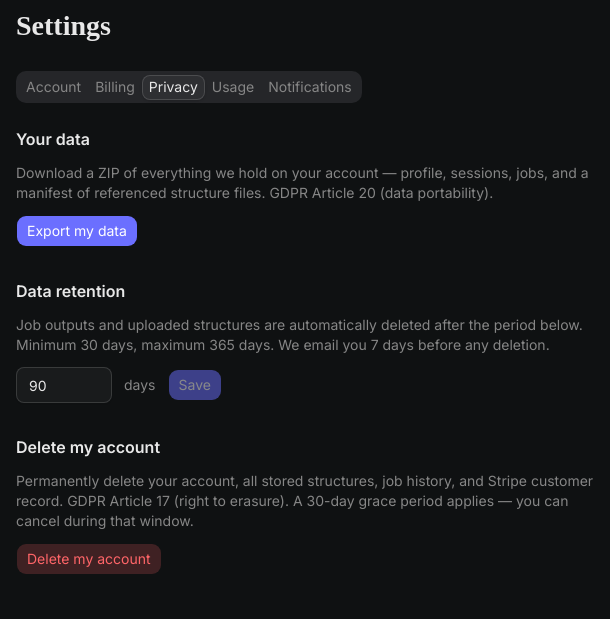
Test case: SettingsPage Privacy tab — Data retention (Plan 10-05) › shows the T-10.05-07 shortening-warning copy when value decreases
Check: the heading "Data retention" is shown, box 16,281 -> 125,301
Replace the text in the number field named "retention days" with "45". click: (64, 385)
box: 16,367 -> 112,403
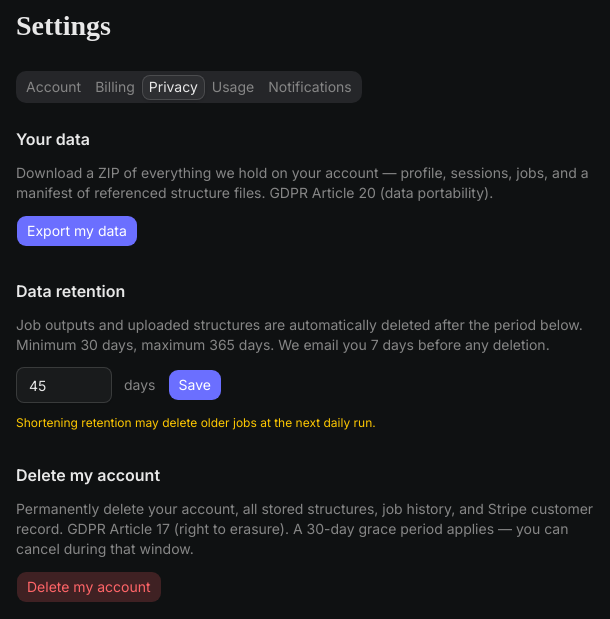
Check: the text "Shortening retention may delete older jobs at the next daily run." is shown, box 16,415 -> 376,430
